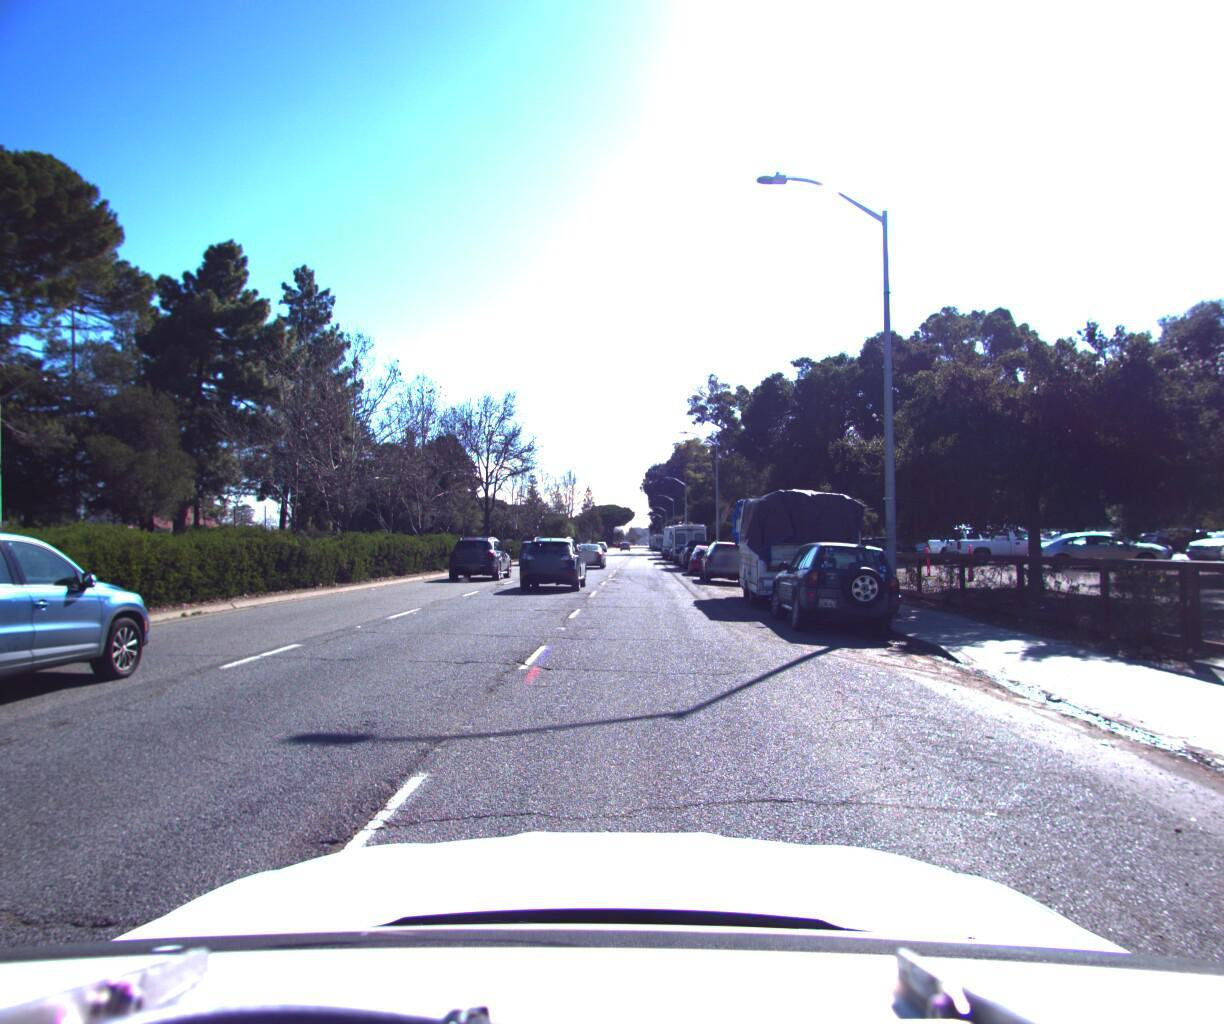car: (758, 519, 913, 639), (1018, 523, 1164, 565), (935, 515, 1064, 557), (515, 529, 589, 588), (906, 520, 1018, 557), (870, 521, 976, 556), (693, 532, 759, 581), (850, 522, 947, 554), (449, 529, 513, 577), (674, 531, 719, 565), (683, 536, 724, 571), (508, 531, 547, 561), (574, 536, 609, 562)
other_vehicle: (725, 480, 872, 611), (663, 513, 708, 558), (657, 517, 691, 554)
